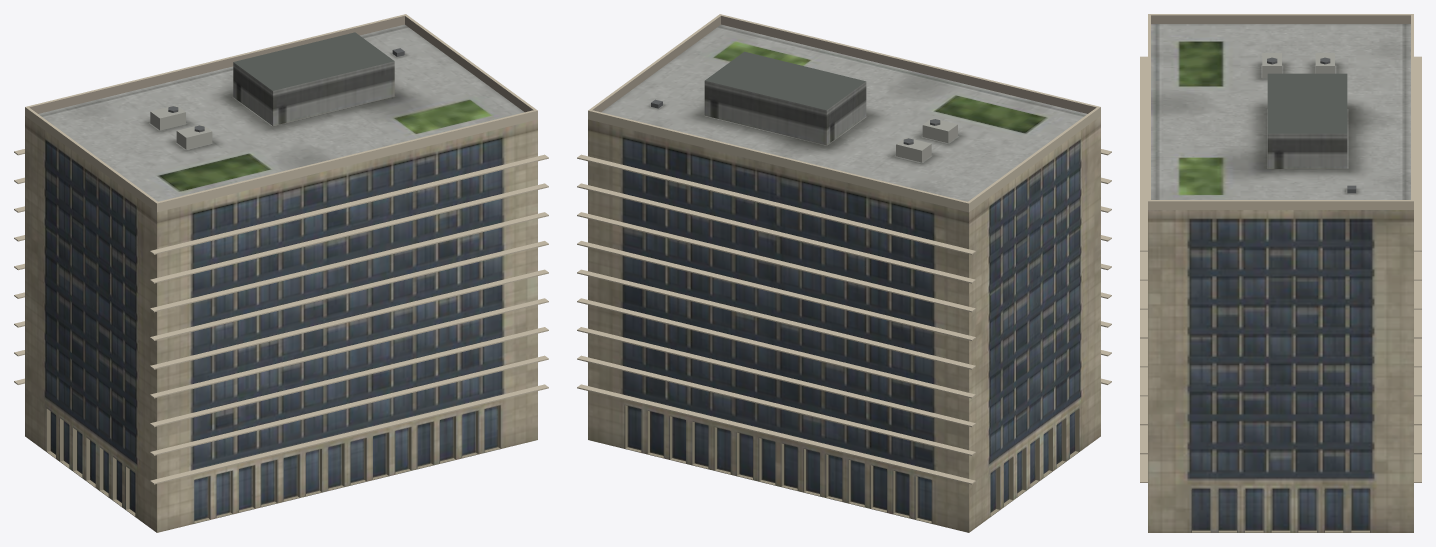
Rendered from dc_office_glass_b.glb.
The picture shows the model from 3 angles, left to right: view 1: azimuth 30°, elevation 25°; view 2: azimuth 150°, elevation 25°; view 3: azimuth 270°, elevation 25°; orthographic projection.
Visible parts, largest first — view 1: dc_office_glass_b; view 2: dc_office_glass_b; view 3: dc_office_glass_b.
Boxes of the visible parts, x1,y1,x2,y2 form: dc_office_glass_b: [14, 14, 548, 532]; dc_office_glass_b: [577, 14, 1111, 532]; dc_office_glass_b: [1140, 14, 1421, 532].
Bounding box in the file's own units: 51.8 × 44.6 × 31.8.
1 material, 1 textured.
